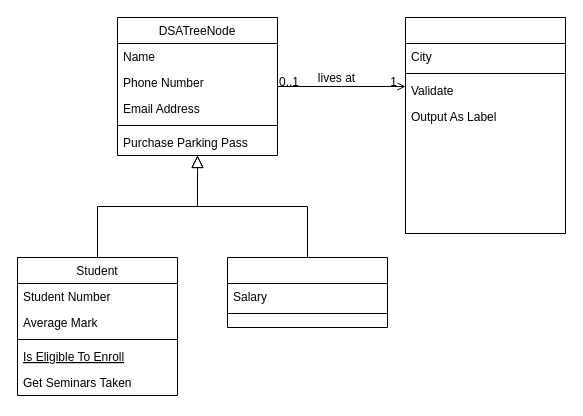
The diagram is 583 pixels wide and 416 high, and some of its shapes have lost their labels. Each missing label, with the box of its shape:
DSABinarySearchTree: (404, 16, 566, 234)
Professor: (226, 256, 388, 328)
